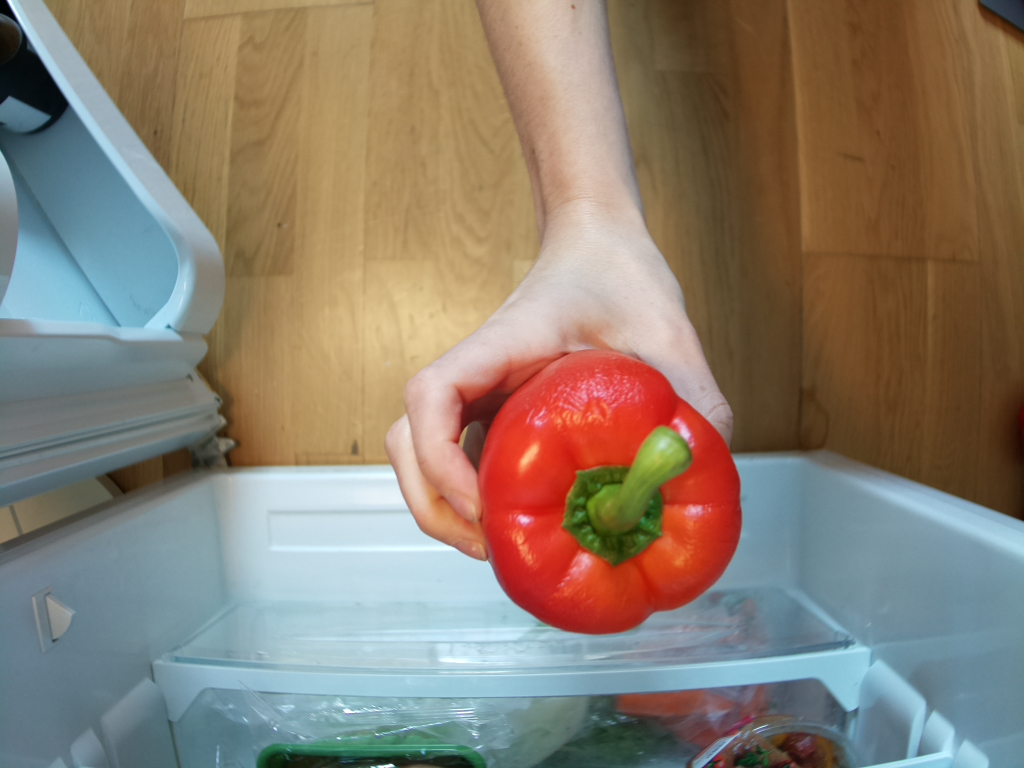pepper-bad: (473, 339, 745, 639)
